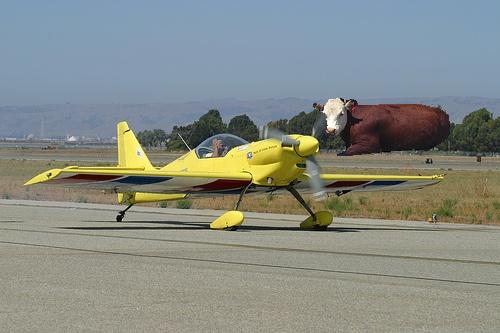tampered: (314, 99, 450, 156)
